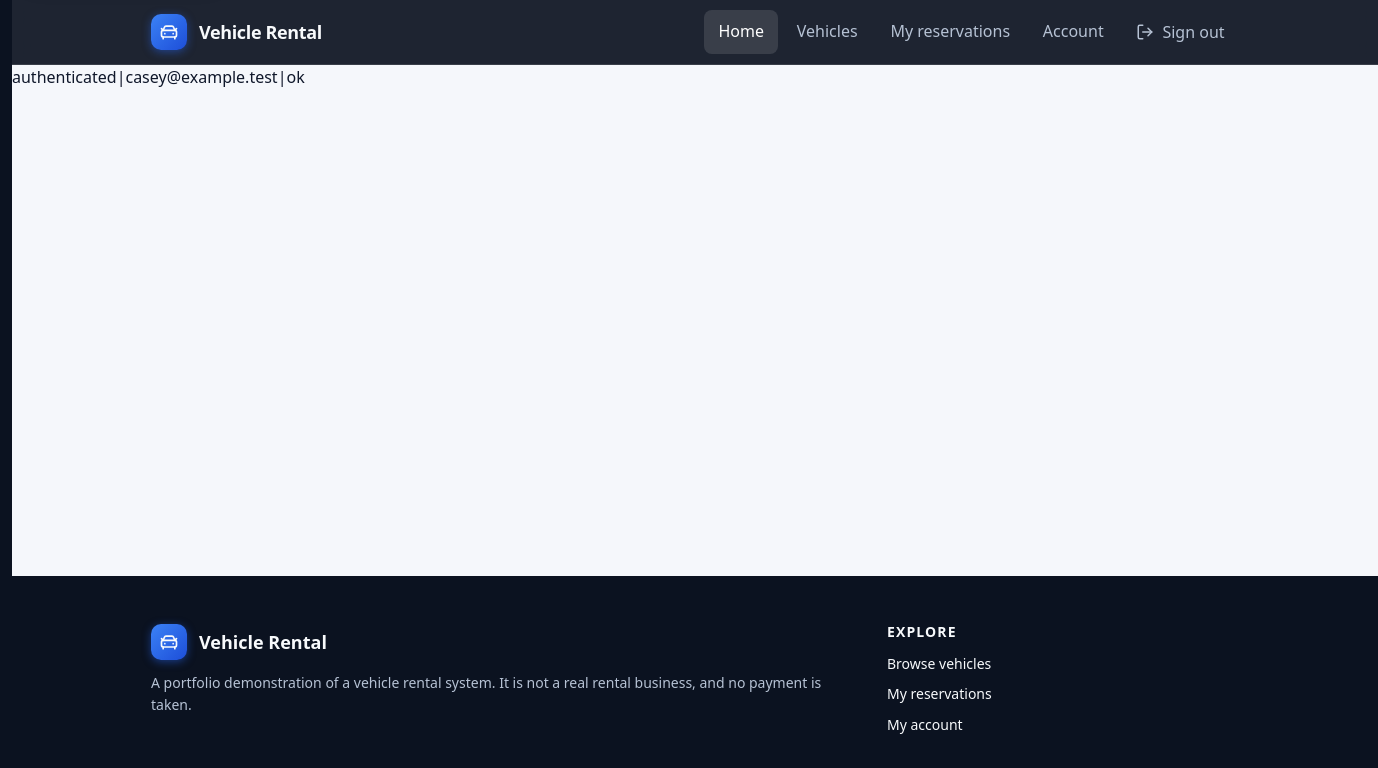
Test case: session handling › signing out ends the session on the server and clears every cached customer record
Click the button "Sign out".
click(1181, 32)  # box x1=1122 y1=10 x2=1239 y2=54
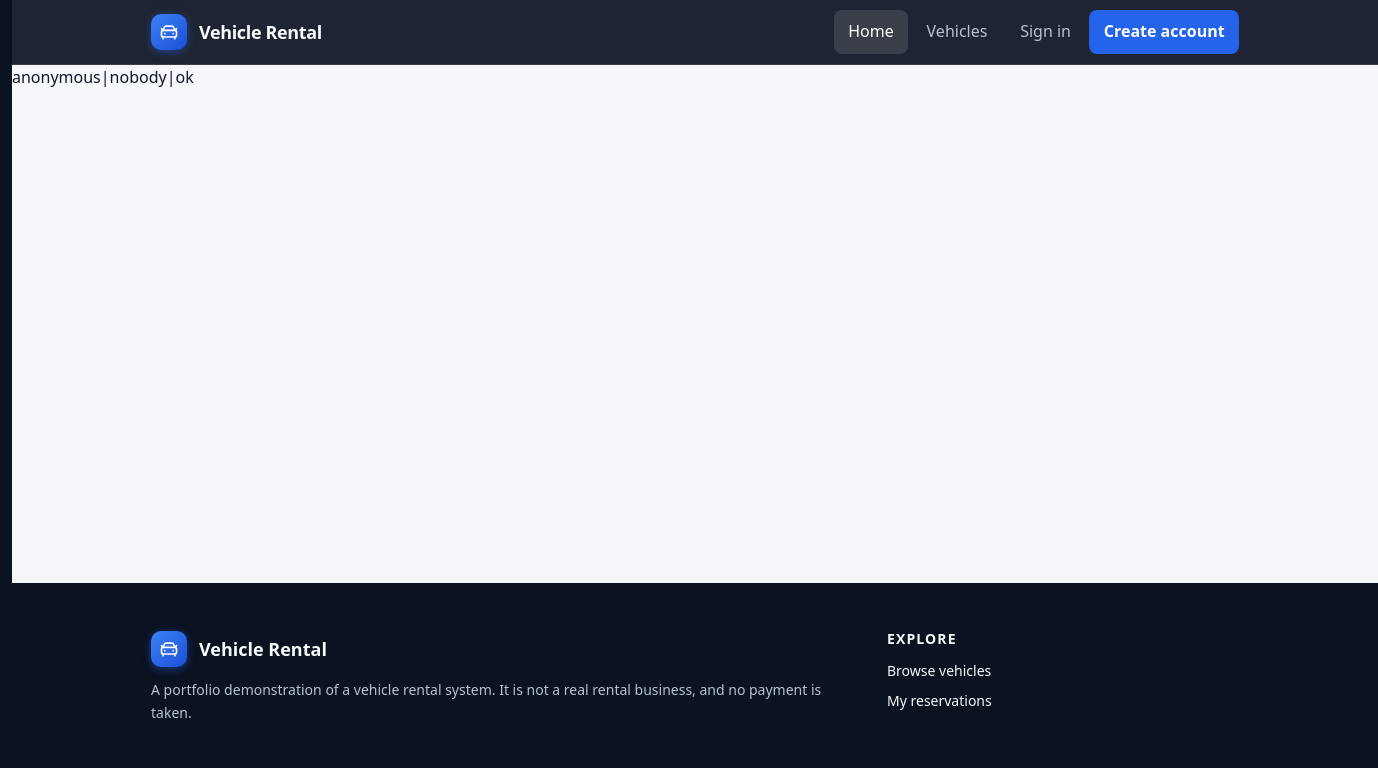
Check: the text with test id "status" reads "anonymous|nobody|ok", box x1=12 y1=66 x2=194 y2=88
